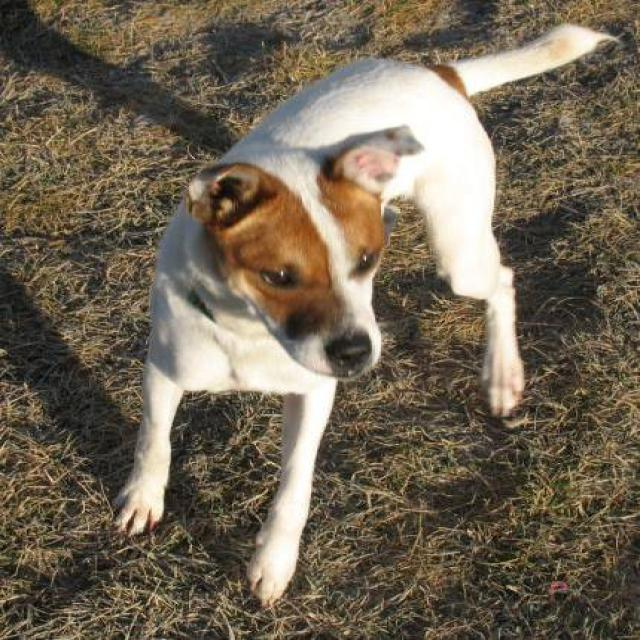Dog: (182, 121, 432, 379)
